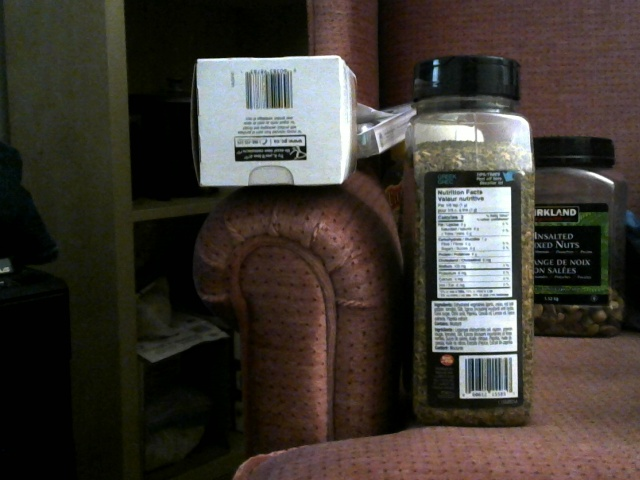Barcode: (243, 67, 293, 110)
